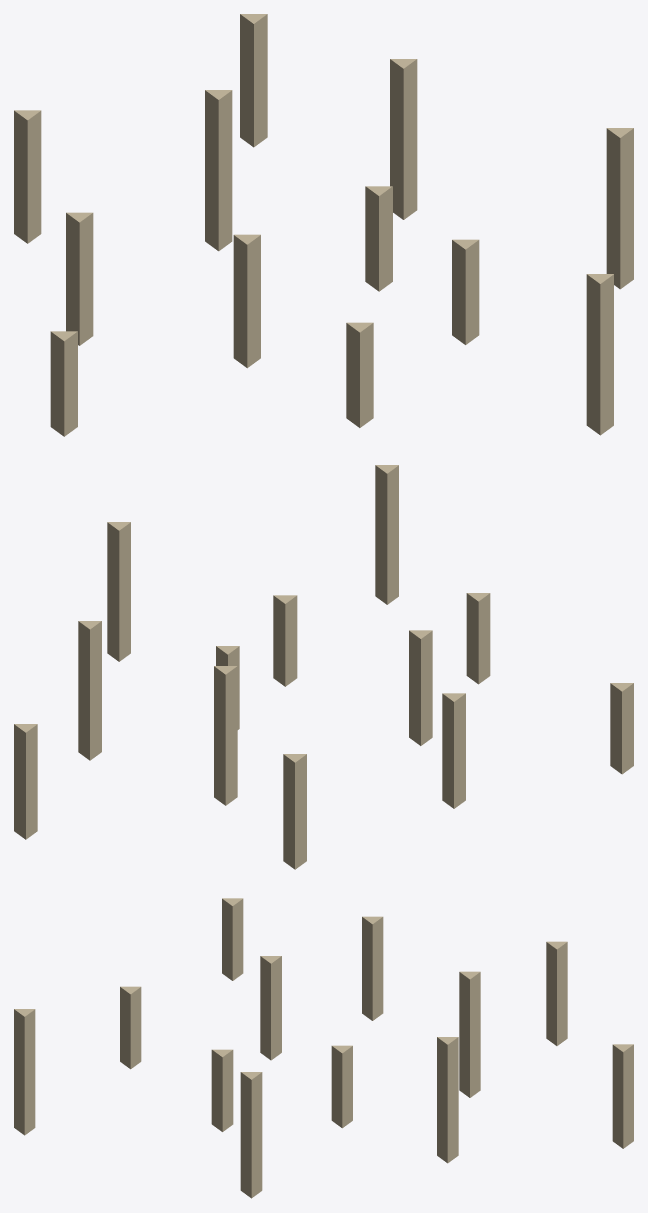
Rendered from crop-stubble.glb.
The picture shows the model from 3 angles, top to bottom: view 1: azimuth 30°, elevation 25°; view 2: azimuth 150°, elevation 25°; view 3: azimuth 270°, elevation 25°; orthographic projection. The views are drawn at different scales.
Visible parts, largest first — view 1: crop-stubble; view 2: crop-stubble; view 3: crop-stubble.
Part boxes in pixels (bbox=[...]): crop-stubble: bbox=[14, 14, 633, 436]; crop-stubble: bbox=[14, 465, 633, 869]; crop-stubble: bbox=[14, 898, 633, 1198].
Size of the model in its own units: 0.7732 by 0.19 by 0.8996.
